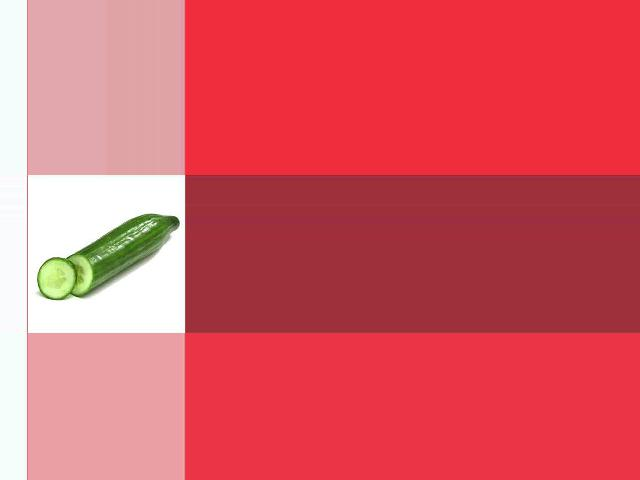cucumber: (64, 214, 179, 297)
